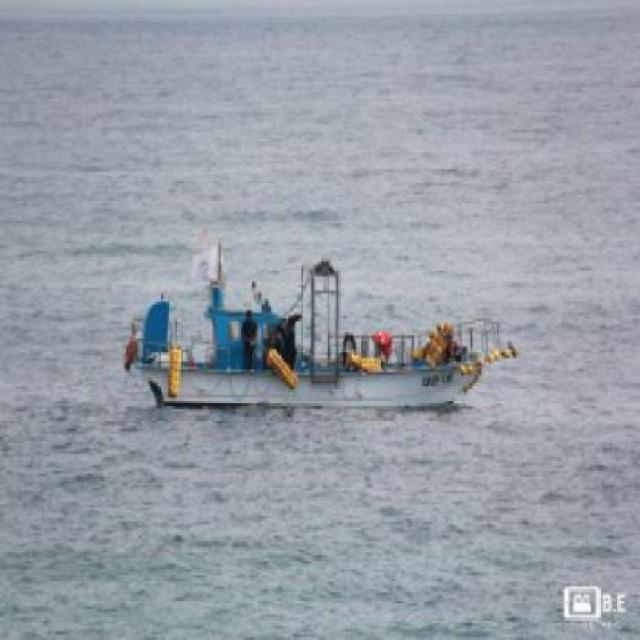fish-b: (117, 221, 525, 430)
